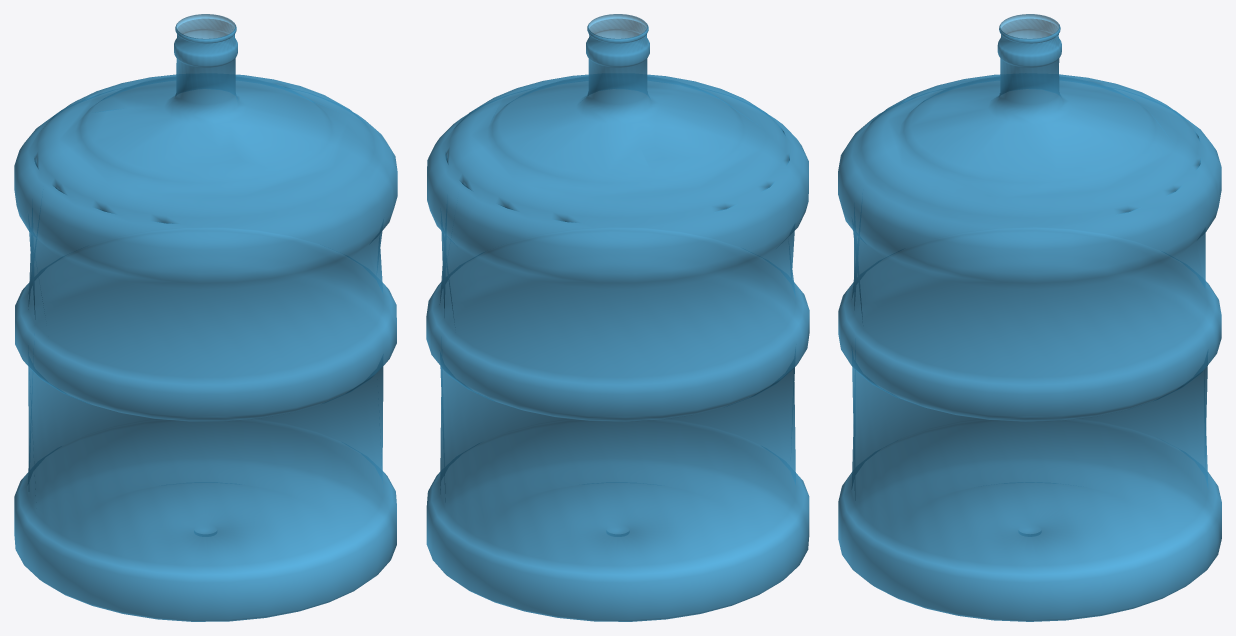
3 views of the same model, side by side, from view 1: azimuth 30°, elevation 25°; view 2: azimuth 150°, elevation 25°; view 3: azimuth 270°, elevation 25° (orthographic).
Visible parts, largest first — view 1: Cylinder_2; view 2: Cylinder_2; view 3: Cylinder_2.
Boxes of the visible parts, x1=… form: Cylinder_2: x1=14, y1=14, x2=397, y2=621; Cylinder_2: x1=426, y1=14, x2=809, y2=621; Cylinder_2: x1=838, y1=14, x2=1221, y2=621.
Bounding box in the file's own units: 2 × 2.99 × 2.
